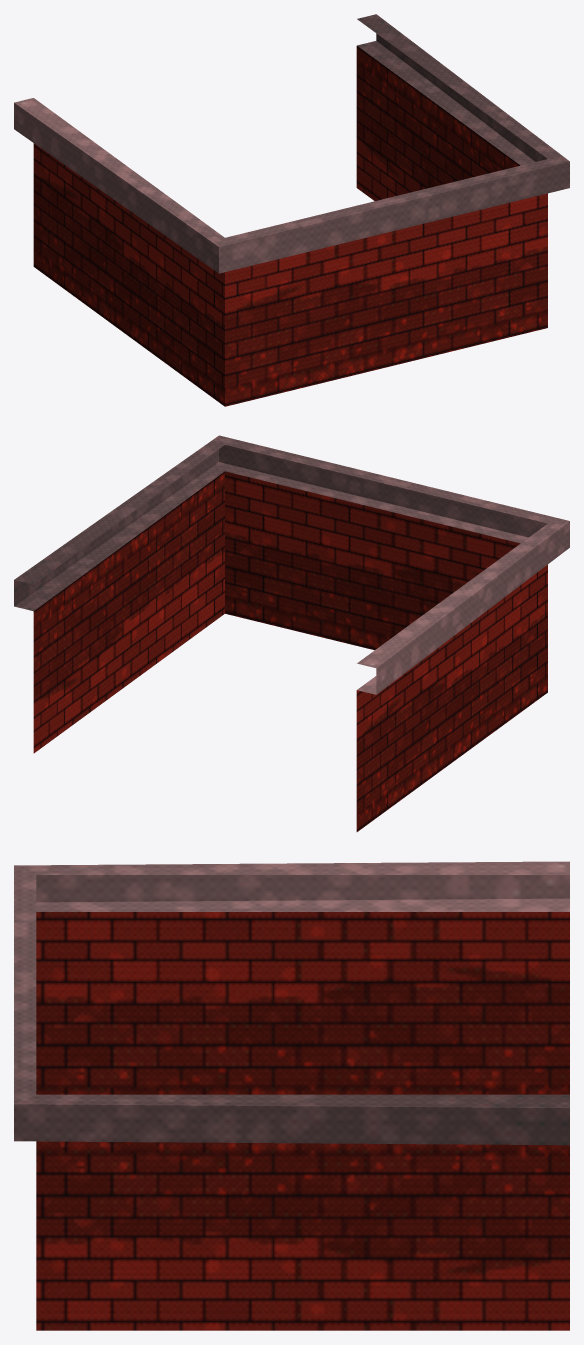
Rendered from Fripperies_A.fbx.
The picture shows the model from 3 angles, top to bottom: view 1: azimuth 30°, elevation 25°; view 2: azimuth 150°, elevation 25°; view 3: azimuth 270°, elevation 25°; orthographic projection. The views are drawn at different scales.
Visible parts, largest first — view 1: Plane.005; view 2: Plane.005; view 3: Plane.005.
Boxes of the visible parts, left/top/right/bottom form: Plane.005: left=14, top=14, right=569, bottom=406; Plane.005: left=14, top=435, right=569, bottom=831; Plane.005: left=14, top=861, right=569, bottom=1330.
Size of the model in its own units: 875 by 390 by 834.
1 material, 1 textured.
